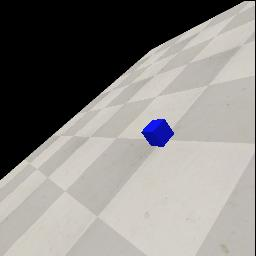box: (141, 119, 174, 147)
